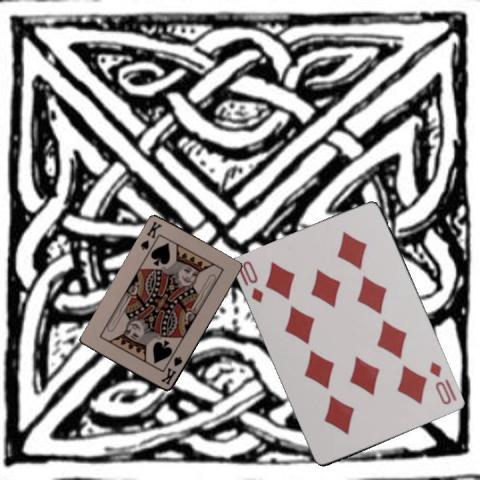10d: (235, 258, 265, 305), (427, 358, 453, 407)
Ks: (158, 353, 184, 387), (138, 219, 164, 251)
